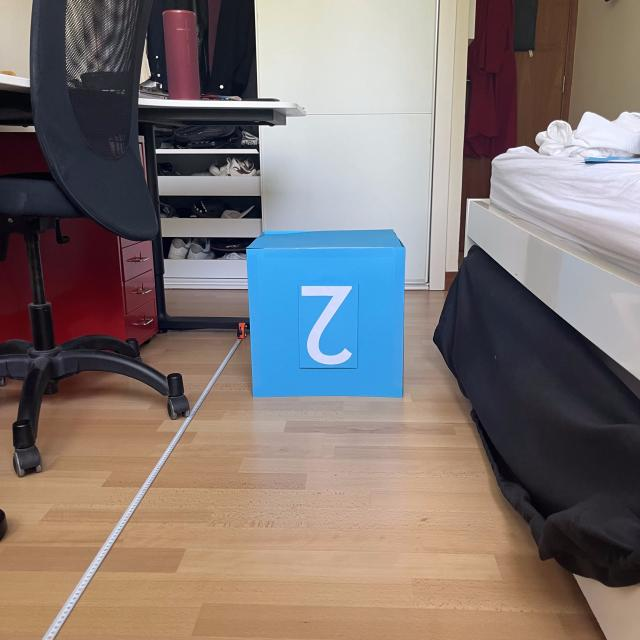box: (241, 224, 409, 401)
